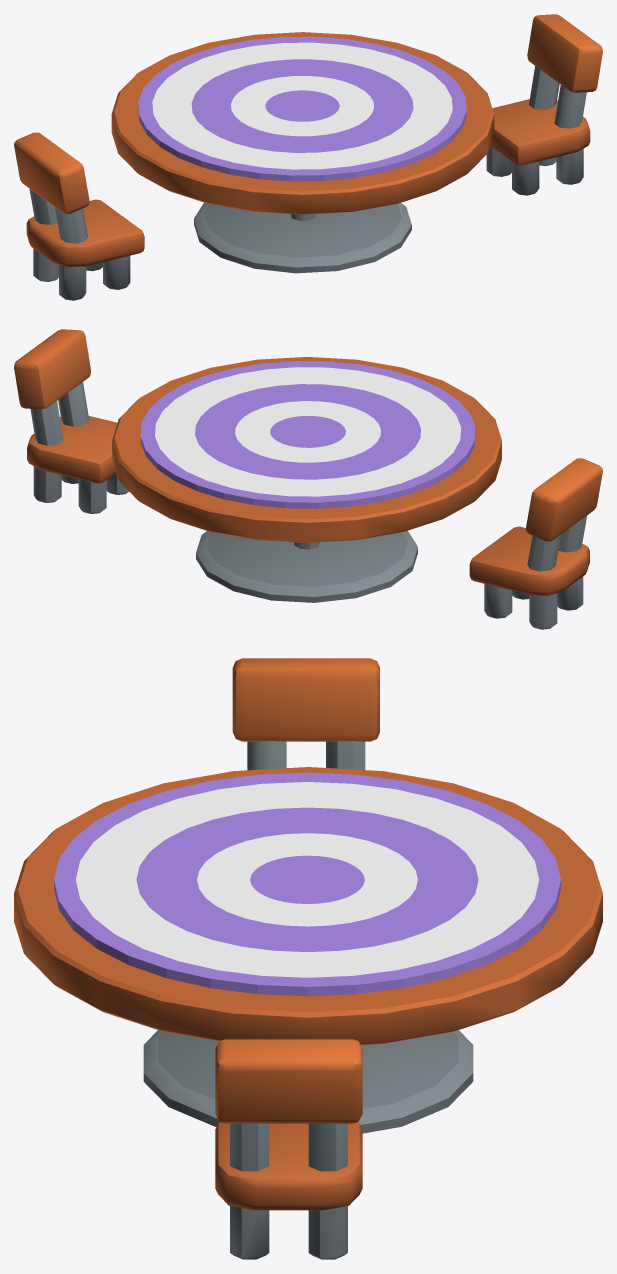
Rendered from masa_ve_sandalye.fbx.
The picture shows the model from 3 angles, top to bottom: view 1: azimuth 30°, elevation 25°; view 2: azimuth 150°, elevation 25°; view 3: azimuth 270°, elevation 25°; orthographic projection. The views are drawn at different scales.
Parts seen in each view (by area): view 1: Cylinder, masa, sandalye.001, sandalye; view 2: Cylinder, masa, sandalye, sandalye.001; view 3: Cylinder, masa, sandalye.001, sandalye.
Boxes of the visible parts, x1,y1,x2,y2 form: Cylinder: (138, 36, 466, 181); masa: (111, 32, 494, 273); sandalye.001: (486, 14, 602, 195); sandalye: (14, 132, 144, 300); Cylinder: (140, 361, 475, 508); masa: (112, 357, 501, 602); sandalye: (469, 458, 602, 629); sandalye.001: (14, 329, 128, 513); Cylinder: (54, 772, 560, 996); masa: (14, 767, 602, 1133); sandalye.001: (215, 1039, 362, 1259); sandalye: (232, 658, 379, 770).
Bounding box in the file's own units: 490 × 121 × 300.
4 materials, 2 textured.
